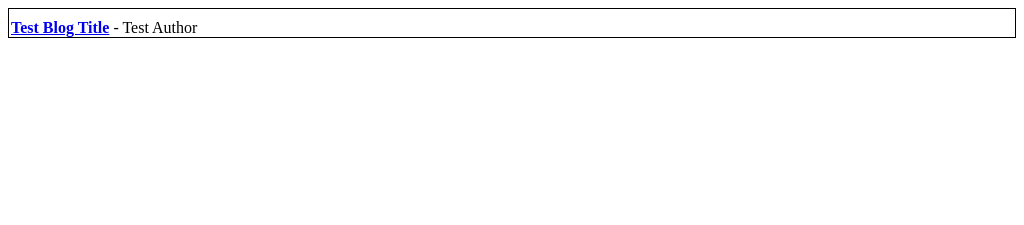
Test: navigates to blog details
This screenshot has width=1024, height=225.
Click the link "Test Blog Title": (60, 28) [11,19,109,36]
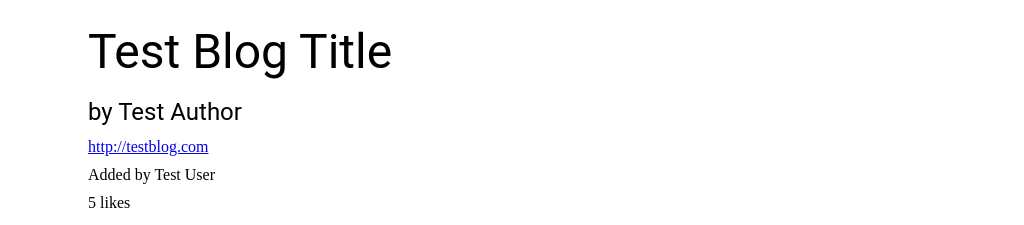
Expected: the link "http://testblog.com" is shown, [88,138,208,155]
